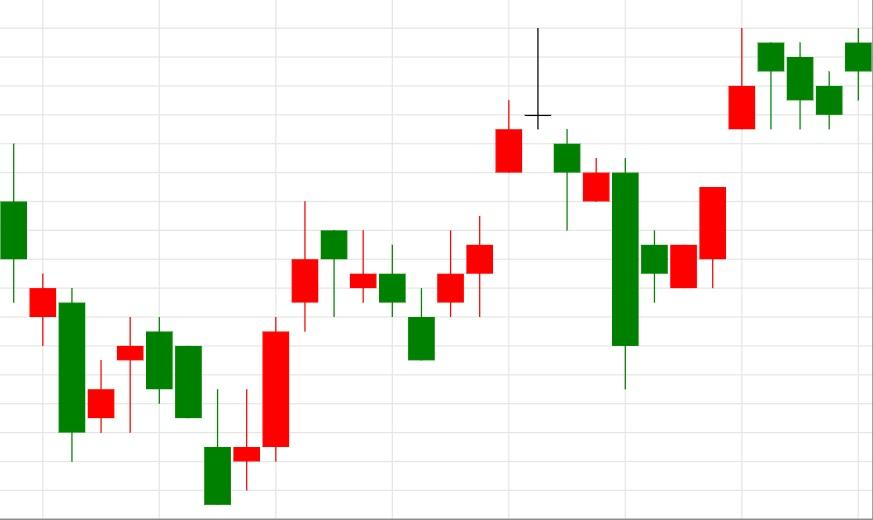hanging_man_fall: (203, 201, 347, 506)
three_white_soldiers_rise: (320, 101, 522, 361)
